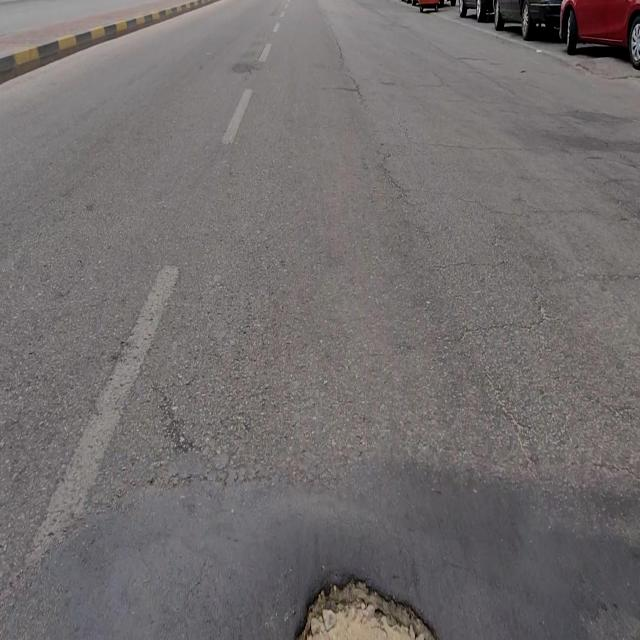Potholes: (294, 571, 438, 640)
